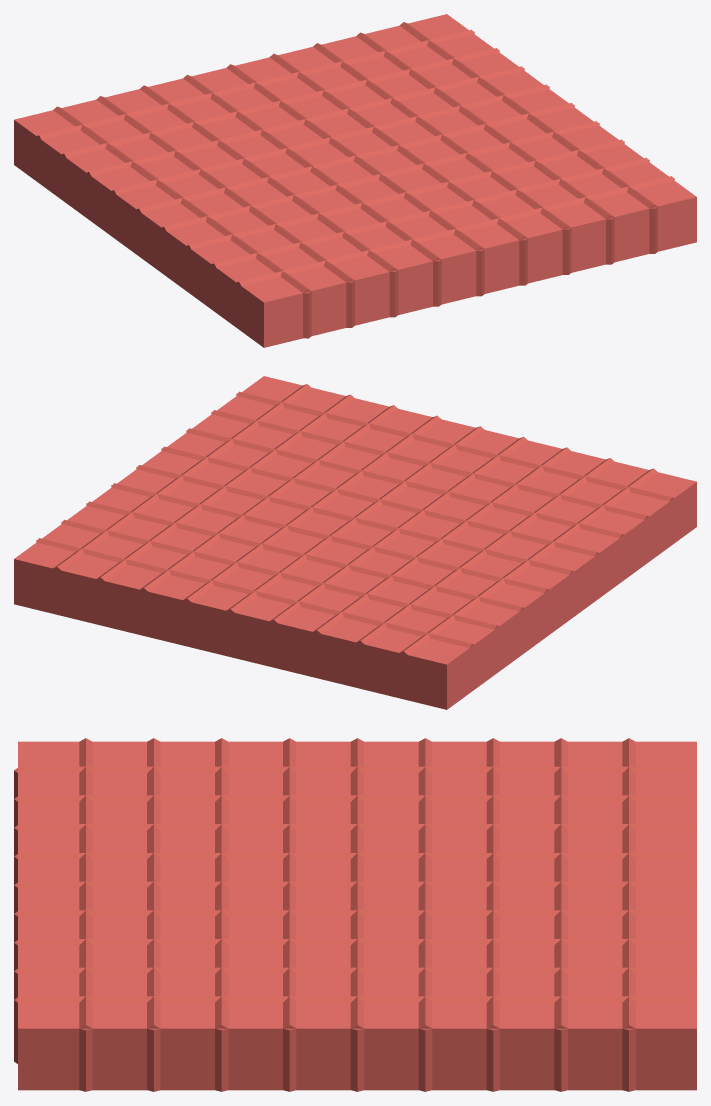
The model's file is base10_flat.glb.
The picture shows the model from 3 angles, top to bottom: view 1: azimuth 30°, elevation 25°; view 2: azimuth 150°, elevation 25°; view 3: azimuth 270°, elevation 25°; orthographic projection. The views are drawn at different scales.
Visible parts, largest first — view 1: flat; view 2: flat; view 3: flat.
Part boxes in pixels (left/top/right/bottom): flat: left=14, top=14, right=696, bottom=347; flat: left=14, top=376, right=696, bottom=709; flat: left=14, top=738, right=696, bottom=1091.
Bounding box in the file's own units: 0.1006 × 0.0106 × 0.1006.
